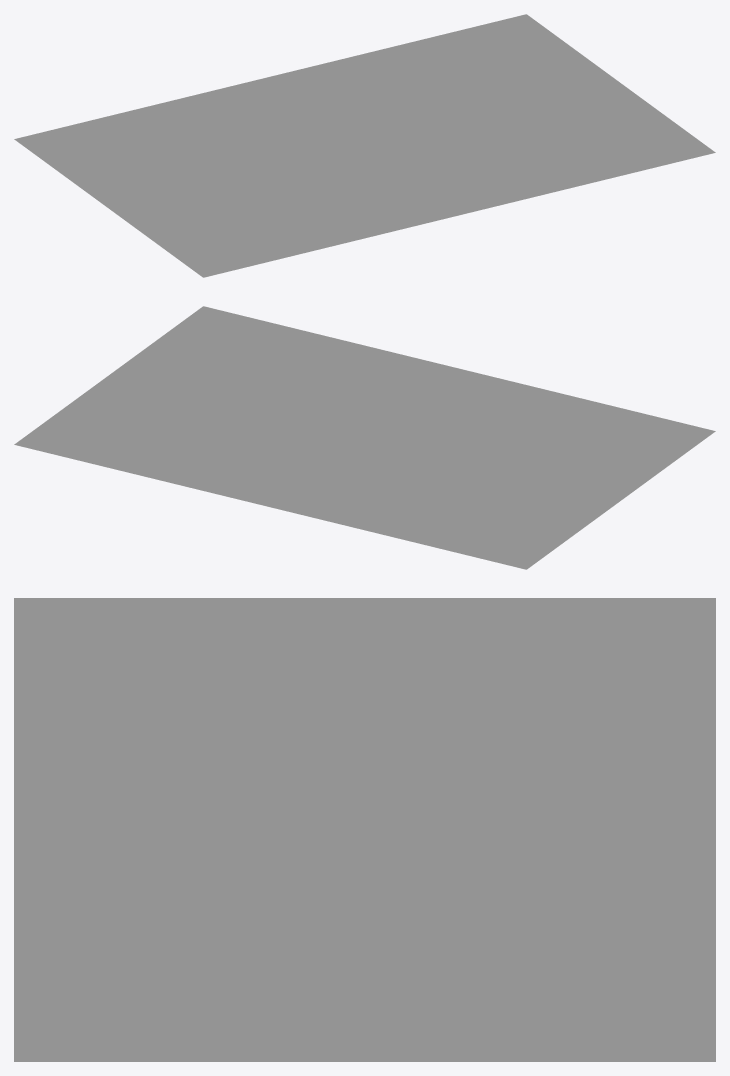
File: office tenjo.fbx
3 renders of one model, top to bottom at view 1: azimuth 30°, elevation 25°; view 2: azimuth 150°, elevation 25°; view 3: azimuth 270°, elevation 25°, orthographic. The views are drawn at different scales.
Parts seen in each view (by area): view 1: tenjo; view 2: tenjo; view 3: tenjo.
Part boxes in pixels (x1,y1,x2,y2): tenjo: [14, 14, 715, 277]; tenjo: [14, 306, 715, 569]; tenjo: [14, 598, 715, 1061].
Bounding box in the file's own units: 2453 × 0.000256 × 1570.
